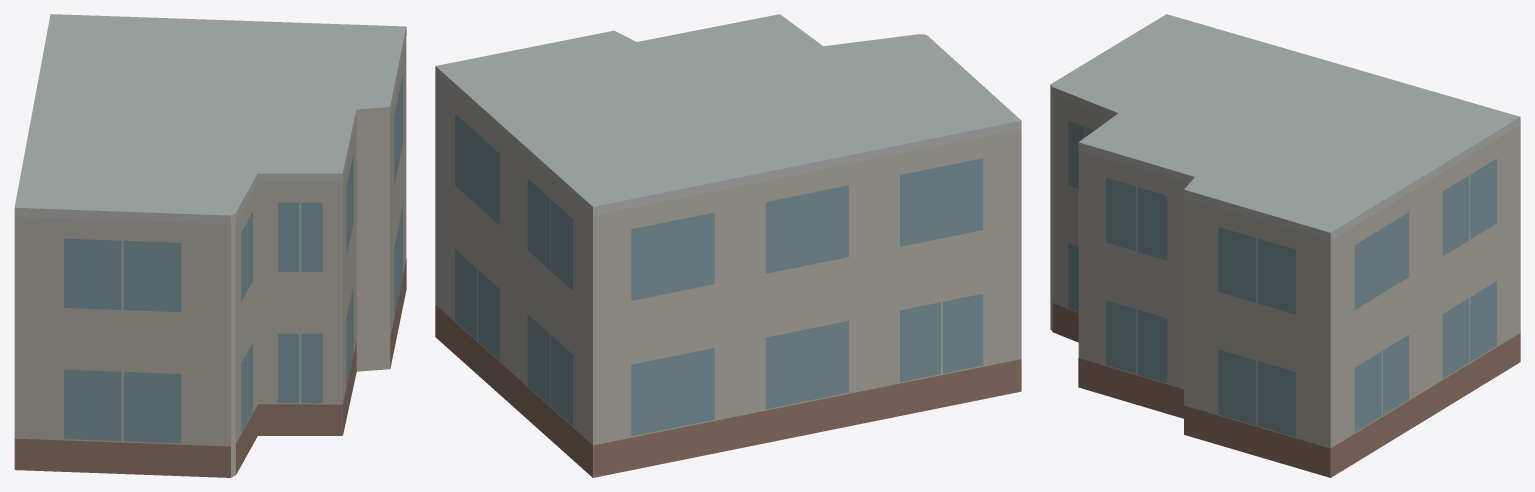
The model's file is survey-upis-32630783.glb.
3 views of the same model, side by side, from view 1: azimuth 30°, elevation 25°; view 2: azimuth 150°, elevation 25°; view 3: azimuth 270°, elevation 25° (orthographic). The views are drawn at different scales.
Visible parts, largest first — view 1: survey-upis-32630783.tmp; view 2: survey-upis-32630783.tmp; view 3: survey-upis-32630783.tmp.
Part boxes in pixels (left/top/right/bottom): survey-upis-32630783.tmp: left=14, top=14, right=406, bottom=477; survey-upis-32630783.tmp: left=435, top=14, right=1021, bottom=477; survey-upis-32630783.tmp: left=1050, top=14, right=1520, bottom=477.
Bounding box in the file's own units: 14.17 × 7.4 × 12.88.
